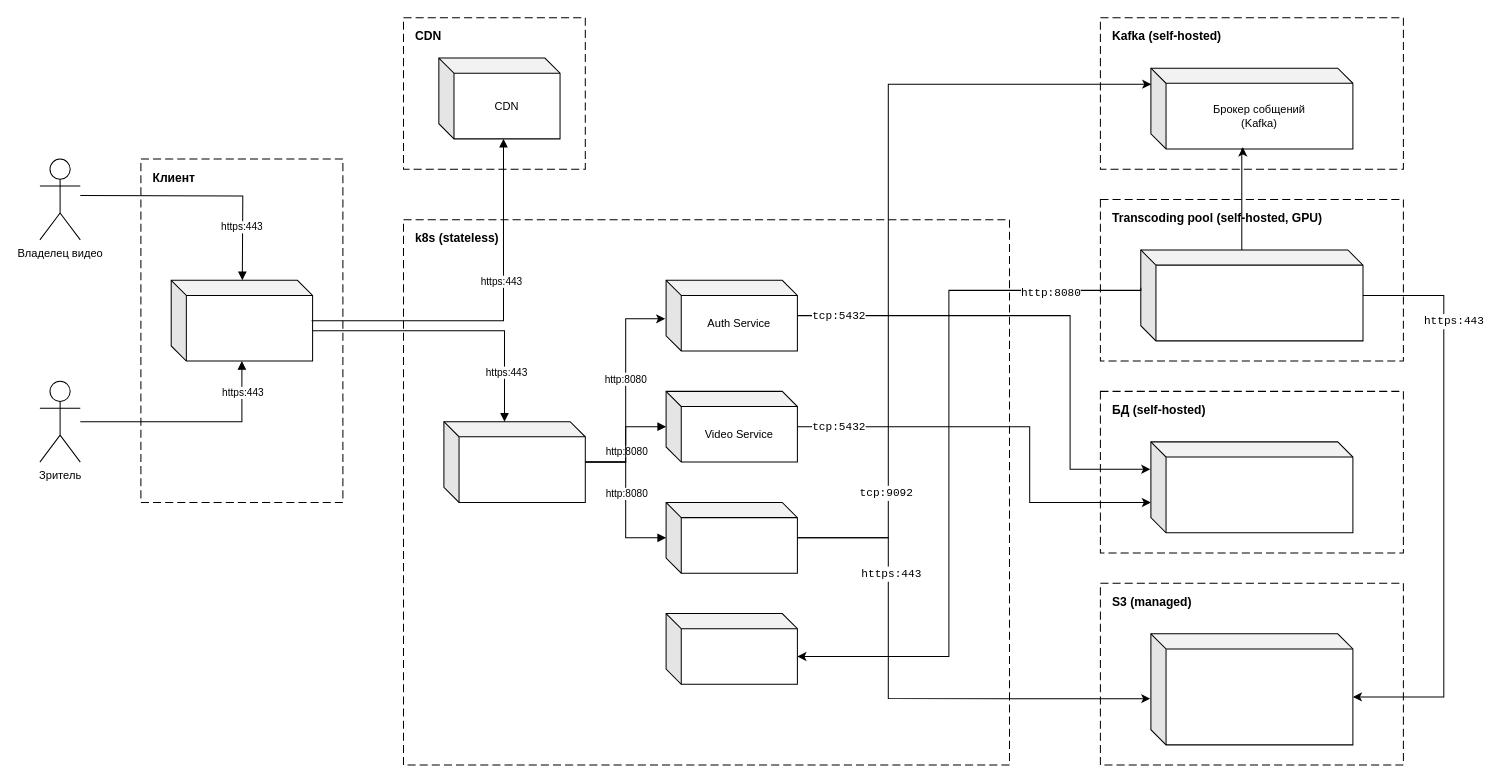
Image size: 1501x783. Some labels were removed from this diagram. Here are the shapes that lost their labels. From the top down, the centre of each, then its label:
At point 1251,295: "Сервис транскодирования".
At point 241,320: "Веб-приложение (браузер)".
At point 514,461: "API Gateway :8080".
At point 1251,487: "БД (PostgreSQL)".
At point 731,537: "Сервис загрузки".
At point 731,648: "Сервис уведомлений".
At point 1251,689: "S3".
